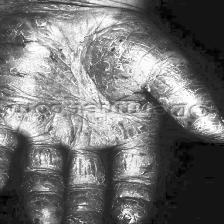Non-Cancerous Skin Condition: (5, 0, 119, 86), (0, 130, 111, 177), (151, 80, 224, 134), (117, 189, 144, 224)
